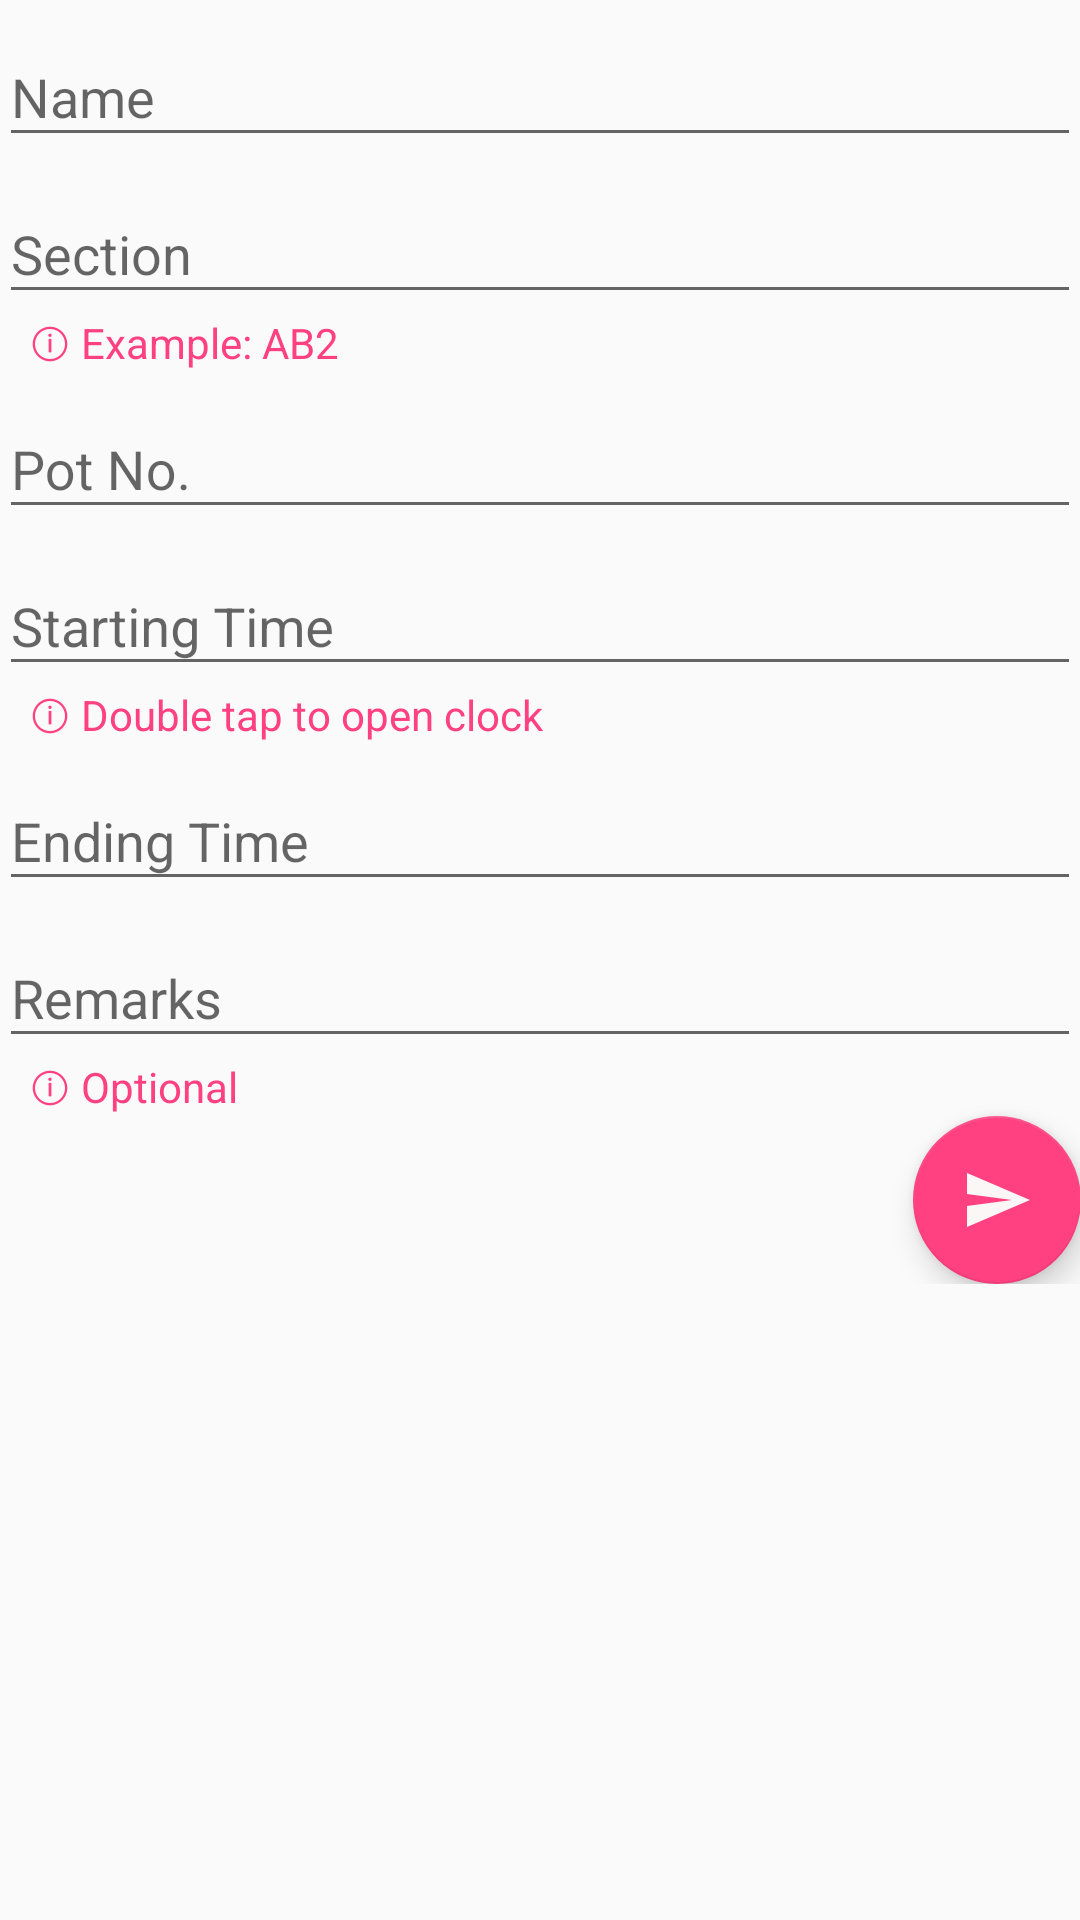

Screen size 1080px x 1920px. Icon name, then its box in pixels as (x1, y1, x2, y2):
send: (913, 1116, 1080, 1284)
